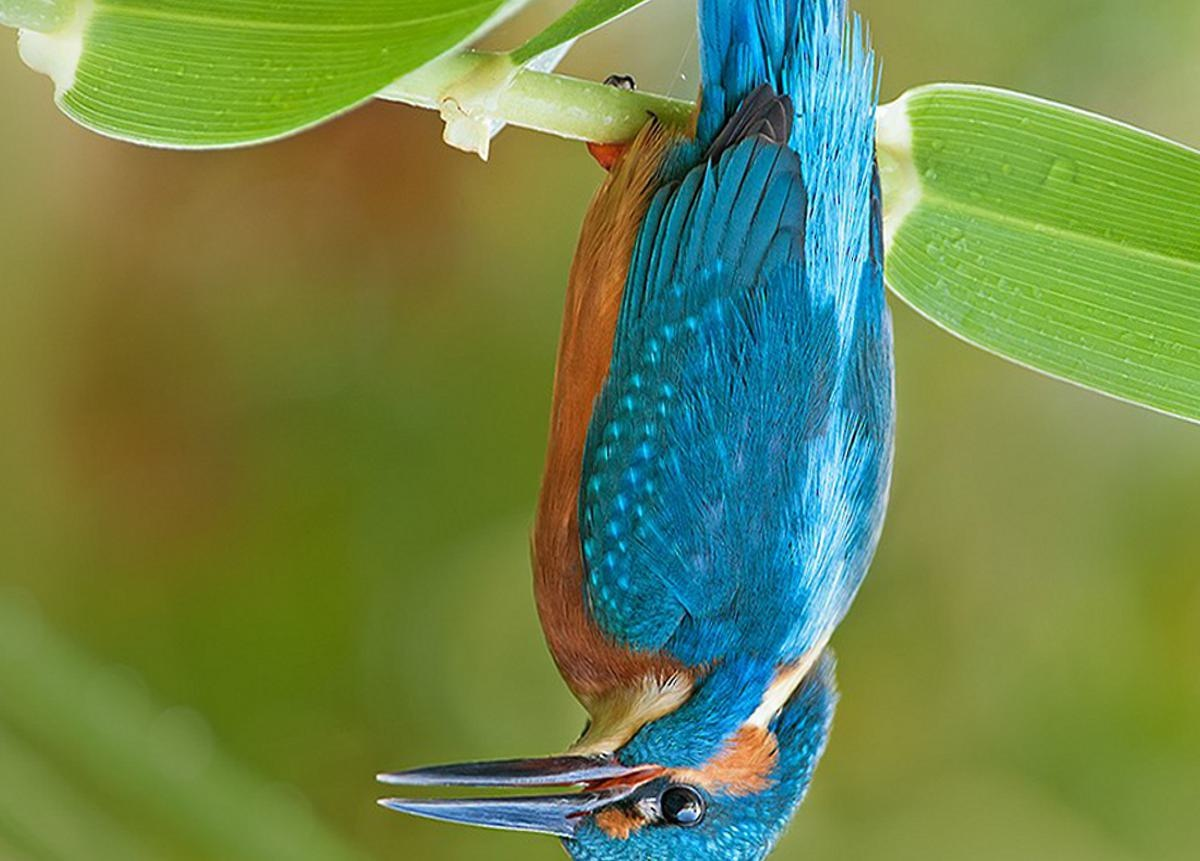kingfisher: (361, 1, 914, 856)
